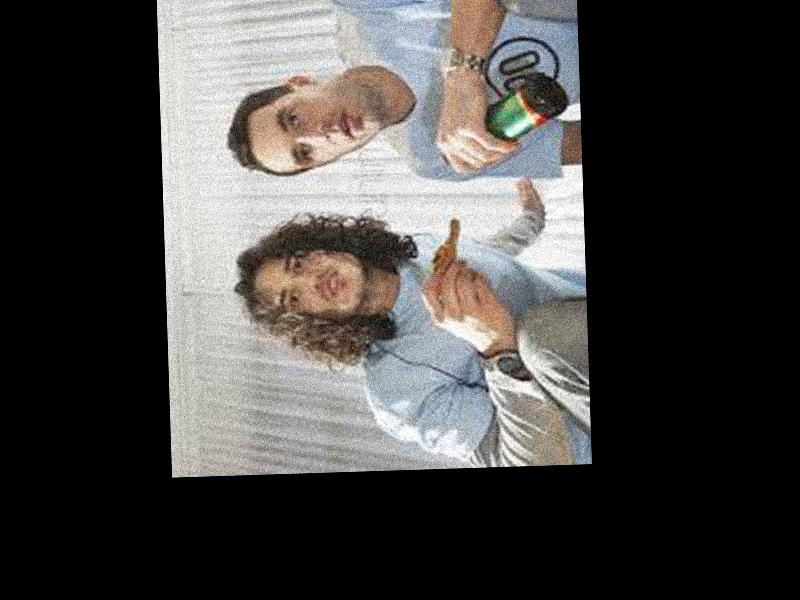Beer: (439, 71, 571, 164)
